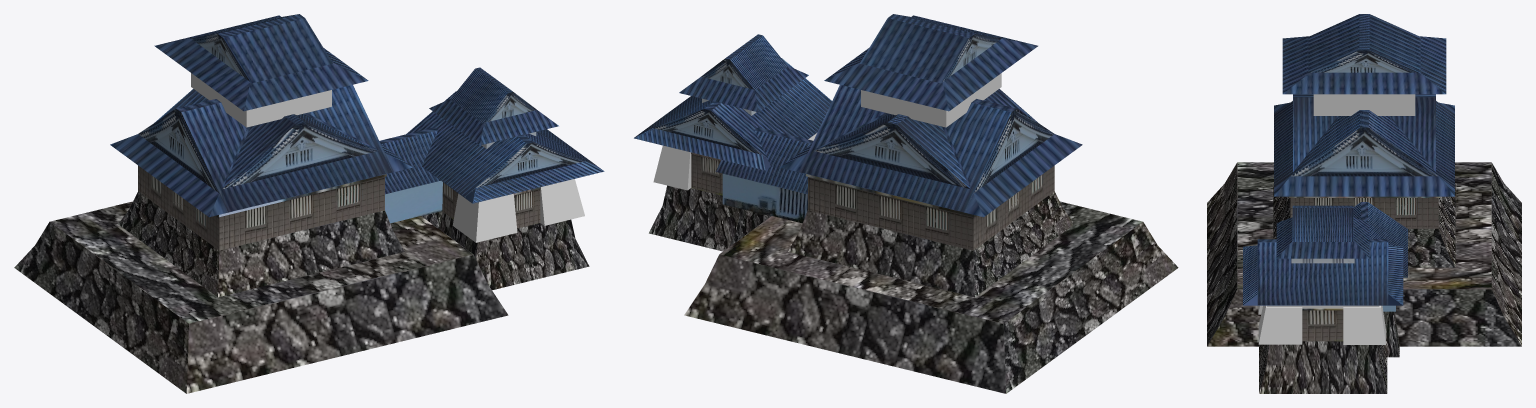
File: 大野城.fbx
3 renders of one model, left to right at view 1: azimuth 30°, elevation 25°; view 2: azimuth 150°, elevation 25°; view 3: azimuth 270°, elevation 25°, orthographic. The views are drawn at different scales.
Parts seen in each view (by area): view 1: 天守台.002, 天守台, 天守_屋根下段2, 天守_壁面下, 天守_屋根下段2.001, 天守_屋根下段1, 天守_屋根上段1, 天守台.001, 天守_屋根上段2, 天守_屋根上段1.002, 天守_屋根上段2.001, 天守_屋根上段1.001 (+7 smaller); view 2: 天守台.002, 天守台, 天守_屋根下段2, 天守_壁面下, 天守_屋根下段2.001, 天守_屋根下段1, 天守_屋根上段1, 天守_屋根上段2, 天守台.001, 天守_屋根上段1.002, 天守_屋根下段2.002, 立方体.003 (+7 smaller); view 3: 天守台.002, 天守_屋根下段2, 天守_屋根下段2.001, 天守台.001, 天守_屋根上段1, 天守_屋根上段2, 天守_屋根上段1.002, 天守_屋根下段1, 天守台, 天守_壁面下, 天守_屋根上段1.001, 天守_屋根上段2.001 (+9 smaller).
Boxes of the visible parts, box(x1,y1,x2,y2) form: 天守台.002: box(14, 201, 508, 393); 天守台: box(118, 191, 404, 297); 天守_屋根下段2: box(138, 85, 393, 212); 天守_壁面下: box(138, 165, 386, 250); 天守_屋根下段2.001: box(406, 91, 595, 197); 天守_屋根下段1: box(154, 89, 378, 188); 天守_屋根上段1: box(154, 15, 368, 111); 天守台.001: box(440, 211, 589, 290); 天守_屋根上段2: box(190, 14, 332, 83); 天守_屋根上段1.002: box(110, 113, 412, 217); 天守_屋根上段2.001: box(450, 67, 536, 123); 天守_屋根上段1.001: box(429, 99, 558, 145); 天守台.002: box(684, 201, 1178, 393); 天守台: box(788, 191, 1074, 297); 天守_屋根下段2: box(799, 85, 1054, 212); 天守_壁面下: box(806, 165, 1054, 250); 天守_屋根下段2.001: box(642, 58, 831, 158); 天守_屋根下段1: box(814, 89, 1037, 188); 天守_屋根上段1: box(824, 15, 1037, 111); 天守_屋根上段2: box(860, 14, 1001, 83); 天守台.001: box(649, 185, 740, 251); 天守_屋根上段1.002: box(780, 113, 1082, 217); 天守_屋根下段2.002: box(715, 127, 813, 194); 立方体.003: box(722, 173, 807, 223); 天守台.002: box(1207, 162, 1521, 346); 天守_屋根下段2: box(1274, 101, 1454, 187); 天守_屋根下段2.001: box(1257, 239, 1388, 305); 天守台.001: box(1259, 341, 1387, 393); 天守_屋根上段1: box(1282, 36, 1446, 94); 天守_屋根上段2: box(1308, 14, 1420, 72); 天守_屋根上段1.002: box(1274, 102, 1454, 196); 天守_屋根下段1: box(1293, 94, 1435, 171); 天守台: box(1273, 183, 1455, 267); 天守_壁面下: box(1289, 196, 1439, 228); 天守_屋根上段1.001: box(1276, 217, 1369, 258); 天守_屋根上段2.001: box(1292, 205, 1353, 241).
Size of the model in its own units: 12.37 by 7.17 by 8.44.
Materials: 12 (11 with a texture image).
